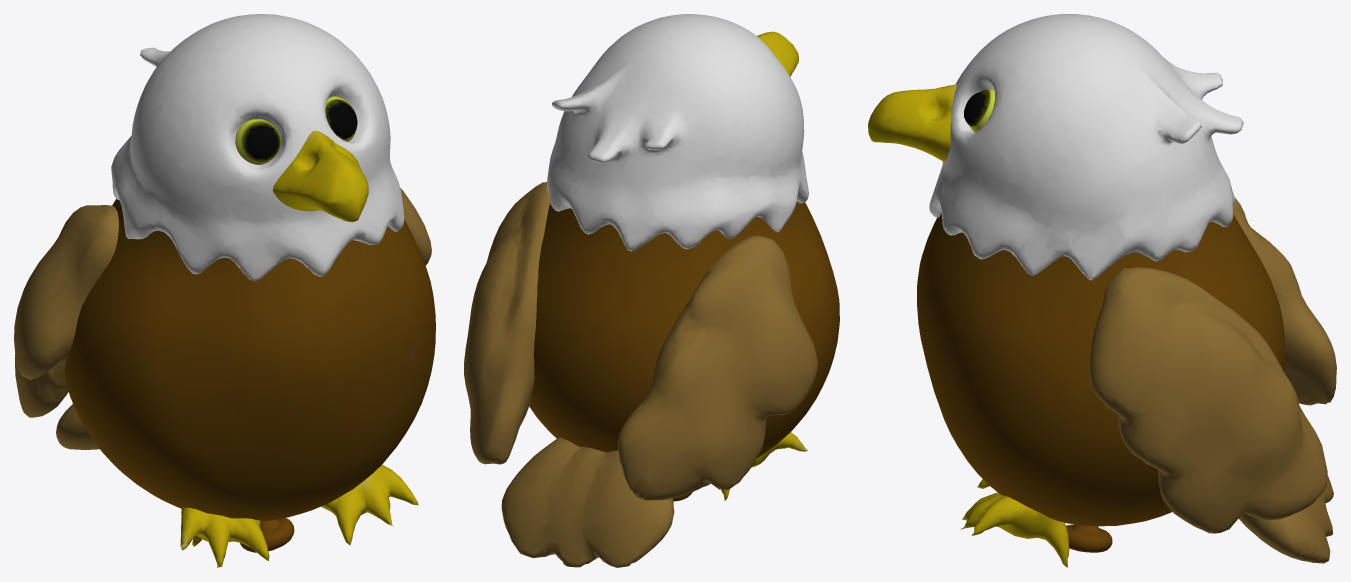
The model's file is eagle.glb.
The picture shows the model from 3 angles, left to right: view 1: azimuth 30°, elevation 25°; view 2: azimuth 150°, elevation 25°; view 3: azimuth 270°, elevation 25°; orthographic projection. The views are drawn at different scales.
Visible parts, largest first — view 1: Layer_1, head, winds, Layer_3feet, Layer_5schnabel, eyes, knot; view 2: winds, head, Layer_1, Layer_5schnabel, Layer_3feet; view 3: head, Layer_1, winds, Layer_5schnabel, Layer_3feet, knot, eyes.
Part boxes in pixels (x1=…): Layer_1: x1=64, y1=198, x2=435, y2=521; head: x1=111, y1=14, x2=404, y2=281; winds: x1=14, y1=188, x2=431, y2=449; Layer_3feet: x1=180, y1=464, x2=418, y2=567; Layer_5schnabel: x1=272, y1=130, x2=368, y2=222; eyes: x1=235, y1=96, x2=357, y2=164; knot: x1=240, y1=518, x2=294, y2=552; winds: x1=464, y1=182, x2=817, y2=567; head: x1=547, y1=14, x2=808, y2=251; Layer_1: x1=529, y1=201, x2=839, y2=457; Layer_5schnabel: x1=757, y1=31, x2=798, y2=76; Layer_3feet: x1=721, y1=432, x2=807, y2=501; head: x1=929, y1=14, x2=1243, y2=280; Layer_1: x1=917, y1=214, x2=1284, y2=526; winds: x1=1089, y1=197, x2=1336, y2=563; Layer_5schnabel: x1=868, y1=84, x2=956, y2=161; Layer_3feet: x1=960, y1=479, x2=1069, y2=567; knot: x1=1066, y1=524, x2=1112, y2=552; eyes: x1=964, y1=89, x2=994, y2=132.
Size of the model in its own units: 0.6816 by 0.9102 by 0.7452.
